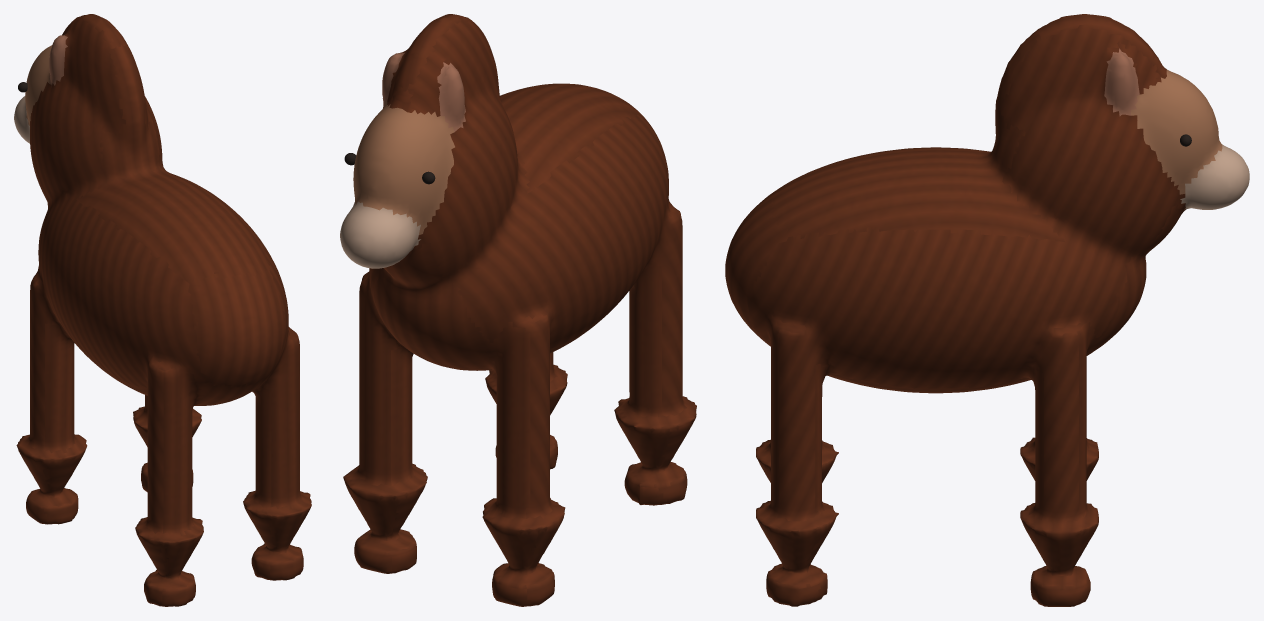
File: horse_weld_review.glb
The picture shows the model from 3 angles, left to right: view 1: azimuth 30°, elevation 25°; view 2: azimuth 150°, elevation 25°; view 3: azimuth 270°, elevation 25°; orthographic projection. The views are drawn at different scales.
Visible parts, largest first — view 1: welded_body_review; view 2: welded_body_review; view 3: welded_body_review.
Boxes of the visible parts, <box> form: welded_body_review: <box>14,14,311,606</box>; welded_body_review: <box>340,14,696,606</box>; welded_body_review: <box>725,14,1249,606</box>.
Size of the model in its own units: 0.9565 by 2.52 by 2.18.
7 materials, 1 textured.
